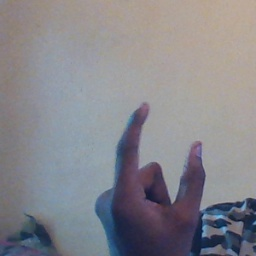U: (90, 100, 211, 249)
